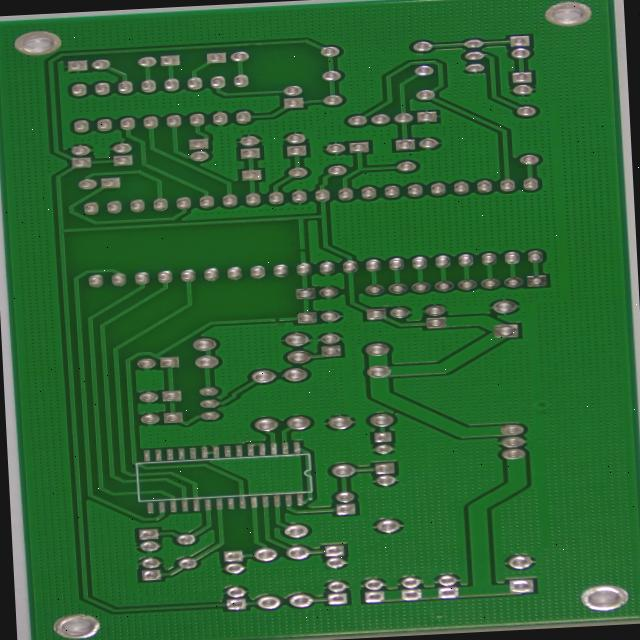open_circuit: (245, 312, 260, 319), (274, 242, 285, 250)
